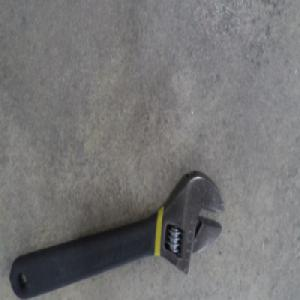AdjustableWrench: (11, 171, 227, 294)
